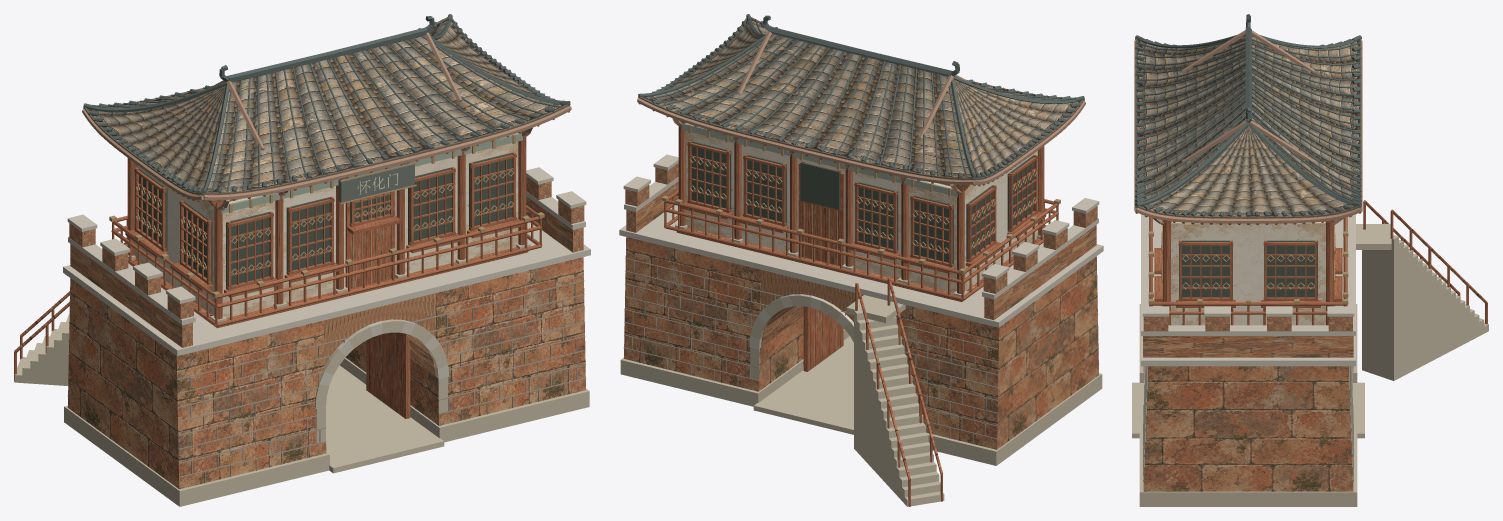
3 views of the same model, side by side, from view 1: azimuth 30°, elevation 25°; view 2: azimuth 150°, elevation 25°; view 3: azimuth 270°, elevation 25° (orthographic). The views are drawn at different scales.
Parts seen in each view (by area): view 1: huaihuamen__painted_city_brick, huaihuamen__painted_cedar, huaihuamen__painted_roof, huaihuamen__warm_limestone, huaihuamen__stone_cap, huaihuamen__tile_ridges, huaihuamen__deep_recess, huaihuamen__painted_plaster, huaihuamen__mortar_ink, huaihuamen__timber_highlight, huaihuamen__gate_plaque, huaihuamen__chibi_ink (+1 smaller); view 2: huaihuamen__painted_city_brick, huaihuamen__painted_cedar, huaihuamen__painted_roof, huaihuamen__warm_limestone, huaihuamen__stone_cap, huaihuamen__tile_ridges, huaihuamen__deep_recess, huaihuamen__painted_plaster, huaihuamen__mortar_ink, huaihuamen__timber_highlight, huaihuamen__chibi_celadon, huaihuamen__chibi_ink; view 3: huaihuamen__painted_city_brick, huaihuamen__painted_roof, huaihuamen__warm_limestone, huaihuamen__tile_ridges, huaihuamen__painted_cedar, huaihuamen__stone_cap, huaihuamen__painted_plaster, huaihuamen__deep_recess, huaihuamen__chibi_ink, huaihuamen__timber_highlight, huaihuamen__mortar_ink.
Boxes of the visible parts, x1,y1,x2,y2 form: huaihuamen__painted_city_brick: [68, 176, 585, 489]; huaihuamen__painted_cedar: [14, 32, 571, 418]; huaihuamen__painted_roof: [87, 19, 564, 192]; huaihuamen__warm_limestone: [14, 242, 589, 506]; huaihuamen__stone_cap: [63, 167, 590, 385]; huaihuamen__tile_ridges: [83, 14, 570, 195]; huaihuamen__deep_recess: [139, 152, 512, 289]; huaihuamen__painted_plaster: [134, 133, 518, 317]; huaihuamen__mortar_ink: [67, 280, 586, 483]; huaihuamen__timber_highlight: [109, 105, 544, 297]; huaihuamen__gate_plaque: [338, 162, 414, 202]; huaihuamen__chibi_ink: [84, 17, 570, 380]; huaihuamen__painted_city_brick: [624, 163, 1098, 449]; huaihuamen__painted_cedar: [637, 31, 1085, 506]; huaihuamen__painted_roof: [643, 19, 1080, 177]; huaihuamen__warm_limestone: [620, 223, 1102, 506]; huaihuamen__stone_cap: [619, 154, 1103, 348]; huaihuamen__tile_ridges: [638, 14, 1084, 180]; huaihuamen__deep_recess: [690, 140, 1033, 266]; huaihuamen__painted_plaster: [686, 123, 1037, 292]; huaihuamen__mortar_ink: [623, 258, 1099, 444]; huaihuamen__timber_highlight: [662, 97, 1060, 274]; huaihuamen__chibi_celadon: [682, 123, 957, 196]; huaihuamen__chibi_ink: [638, 17, 1084, 364]; huaihuamen__painted_city_brick: [1143, 316, 1353, 491]; huaihuamen__painted_roof: [1137, 36, 1359, 216]; huaihuamen__warm_limestone: [1132, 224, 1488, 506]; huaihuamen__tile_ridges: [1135, 14, 1361, 216]; huaihuamen__painted_cedar: [1134, 30, 1487, 325]; huaihuamen__stone_cap: [1141, 214, 1355, 384]; huaihuamen__painted_plaster: [1171, 221, 1325, 325]; huaihuamen__deep_recess: [1179, 240, 1317, 297]; huaihuamen__chibi_ink: [1135, 38, 1361, 218]; huaihuamen__timber_highlight: [1148, 137, 1348, 304]; huaihuamen__mortar_ink: [1143, 366, 1353, 481].
Bounding box in the file's own units: 13.22 × 11.42 × 10.5.
Materials: 14 (4 with a texture image).
